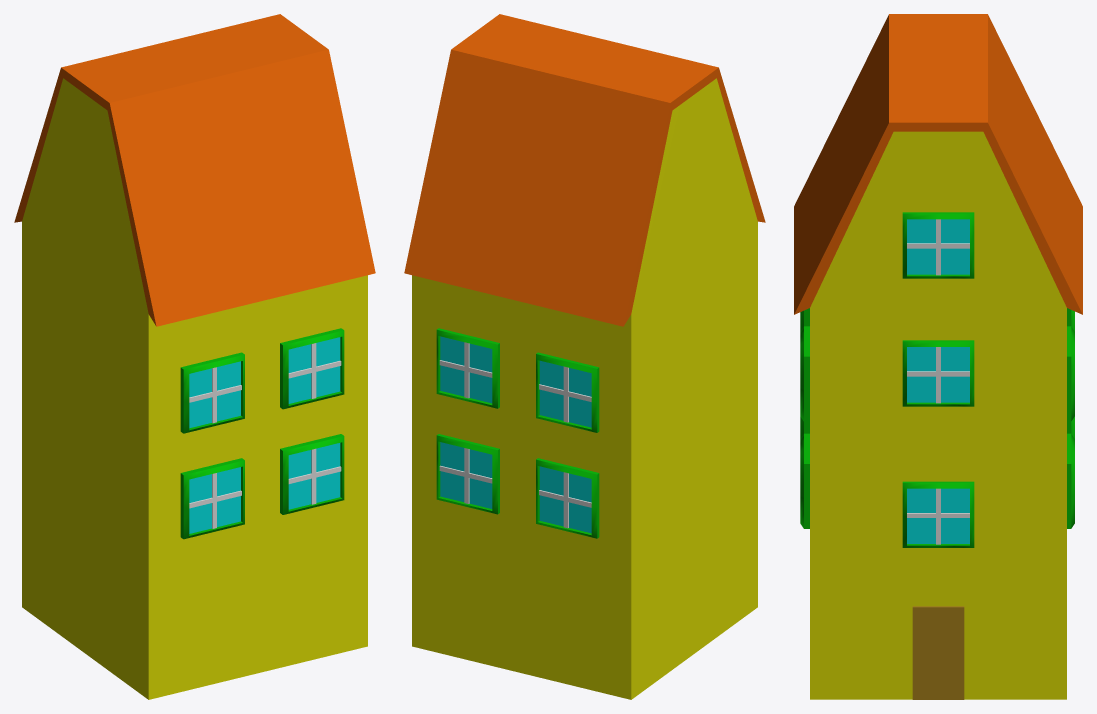
The picture shows the model from 3 angles, left to right: view 1: azimuth 30°, elevation 25°; view 2: azimuth 150°, elevation 25°; view 3: azimuth 270°, elevation 25°; orthographic projection.
Parts seen in each view (by area): view 1: pCube1, pCube2 (×4); view 2: pCube1, pCube2 (×4); view 3: pCube1, pCube2 (×7), pCube5.
Part boxes in pixels (bbox=[...]): pCube1: bbox=[14, 14, 375, 699]; pCube2 (×4): bbox=[180, 328, 344, 539]; pCube1: bbox=[404, 14, 765, 699]; pCube2 (×4): bbox=[436, 328, 599, 538]; pCube1: bbox=[794, 14, 1082, 699]; pCube2 (×7): bbox=[800, 212, 1074, 547]; pCube5: bbox=[912, 606, 964, 699].
Size of the model in its own units: 29.15 by 70.41 by 31.94.
